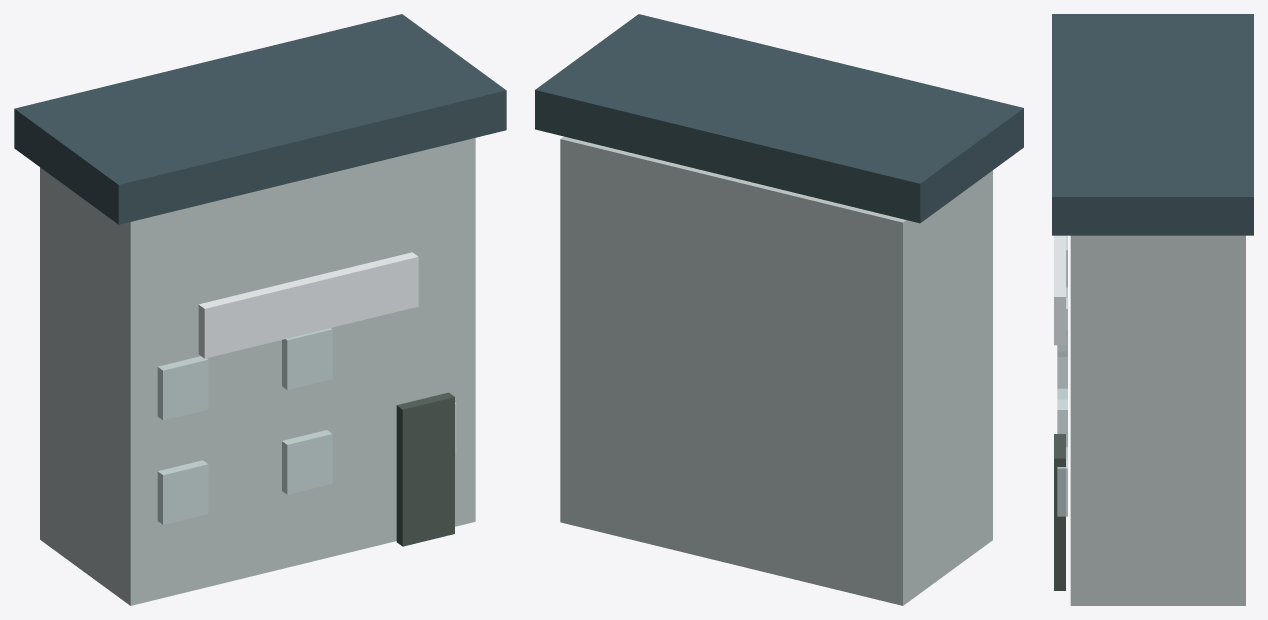
File: clinic_building.glb
3 renders of one model, left to right at view 1: azimuth 30°, elevation 25°; view 2: azimuth 150°, elevation 25°; view 3: azimuth 270°, elevation 25°, orthographic. The views are drawn at different scales.
Visible parts, largest first — view 1: body, roof, sign, door, window_0, window_3, window_1, window_4; view 2: body, roof; view 3: body, roof, door, sign, window_2, window_1, window_0.
Boxes of the visible parts, <box> form: body: <box>40,138,475,605</box>; roof: <box>14,14,506,224</box>; sign: <box>198,252,418,358</box>; door: <box>396,392,454,546</box>; window_0: <box>157,460,208,524</box>; window_3: <box>157,356,208,420</box>; window_1: <box>282,430,332,494</box>; window_4: <box>282,328,332,389</box>; body: <box>560,136,992,605</box>; roof: <box>535,14,1023,223</box>; body: <box>1070,235,1245,605</box>; roof: <box>1052,14,1253,235</box>; door: <box>1054,434,1065,590</box>; sign: <box>1054,235,1065,345</box>; window_2: <box>1057,447,1067,516</box>; window_1: <box>1057,388,1067,447</box>; window_0: <box>1057,357,1067,388</box>.
Bounding box in the file's own units: 1.63 × 1.74 × 0.76.
